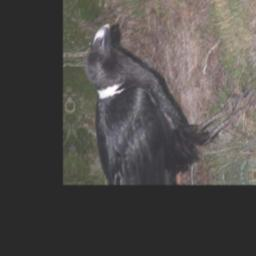Crow: (81, 16, 256, 184)
